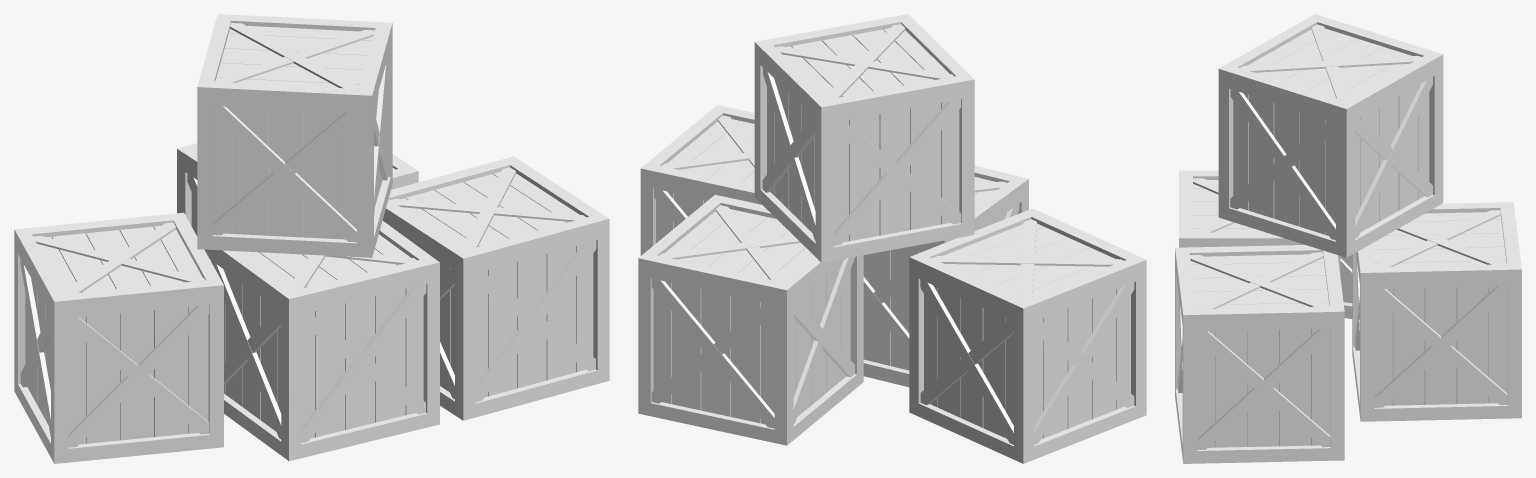
File: Prop_Crate_Box_Pile_01.glb
The picture shows the model from 3 angles, left to right: view 1: azimuth 30°, elevation 25°; view 2: azimuth 150°, elevation 25°; view 3: azimuth 270°, elevation 25°; orthographic projection. The views are drawn at different scales.
Visible parts, largest first — view 1: Prop_Crate_Box_Pile_01; view 2: Prop_Crate_Box_Pile_01; view 3: Prop_Crate_Box_Pile_01.
Boxes of the visible parts, box(x1,y1,x2,y2) form: Prop_Crate_Box_Pile_01: box(14, 14, 609, 463); Prop_Crate_Box_Pile_01: box(638, 14, 1146, 463); Prop_Crate_Box_Pile_01: box(1175, 14, 1521, 463).
Bounding box in the file's own units: 2.49 × 1.54 × 1.63.
1 material, 1 textured.
